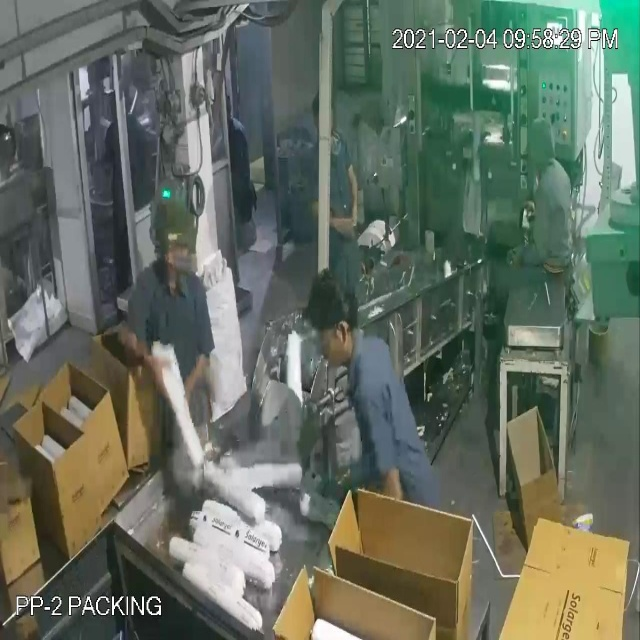Sin_guantes: (100, 310, 172, 399), (172, 336, 212, 419), (312, 188, 349, 252), (344, 146, 370, 235)
